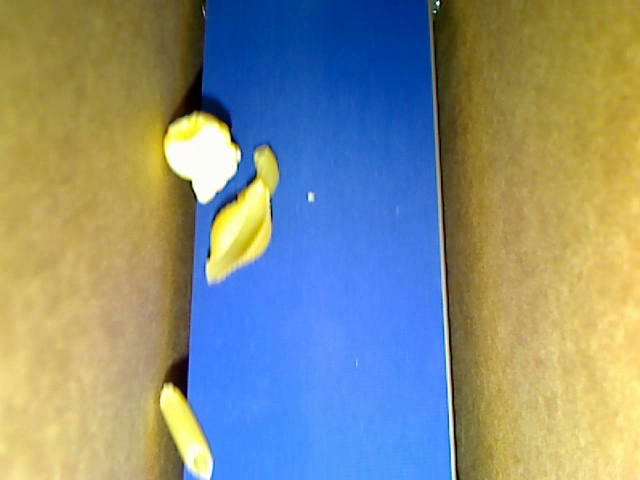elbow: (252, 142, 279, 198)
penne: (158, 382, 215, 478)
shell: (205, 178, 272, 286)
